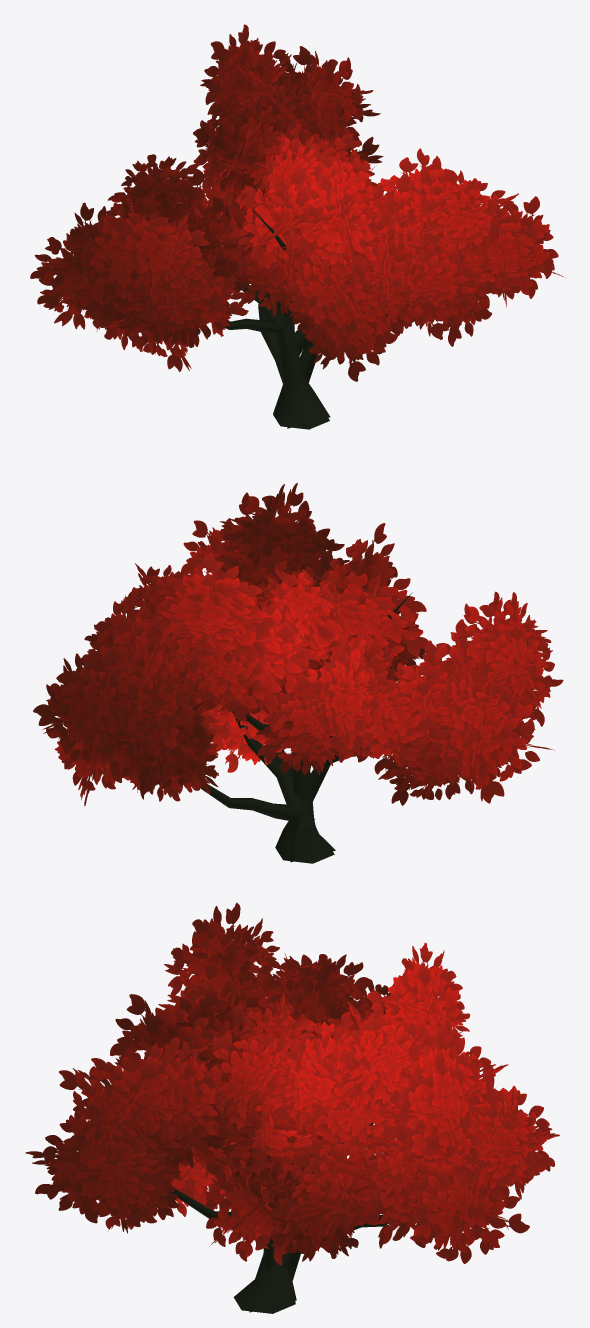
The model's file is tree_small.glb.
The picture shows the model from 3 angles, top to bottom: view 1: azimuth 30°, elevation 25°; view 2: azimuth 150°, elevation 25°; view 3: azimuth 270°, elevation 25°; orthographic projection. The views are drawn at different scales.
Visible parts, largest first — view 1: Mesh_0.002; view 2: Mesh_0.002; view 3: Mesh_0.002.
Part boxes in pixels (x1,y1,x2,y2): Mesh_0.002: (30,24,562,429); Mesh_0.002: (33,483,563,863); Mesh_0.002: (25,902,559,1313).
Size of the model in its own units: 17.99 by 12.8 by 17.27.
Materials: 1 (1 with a texture image).
